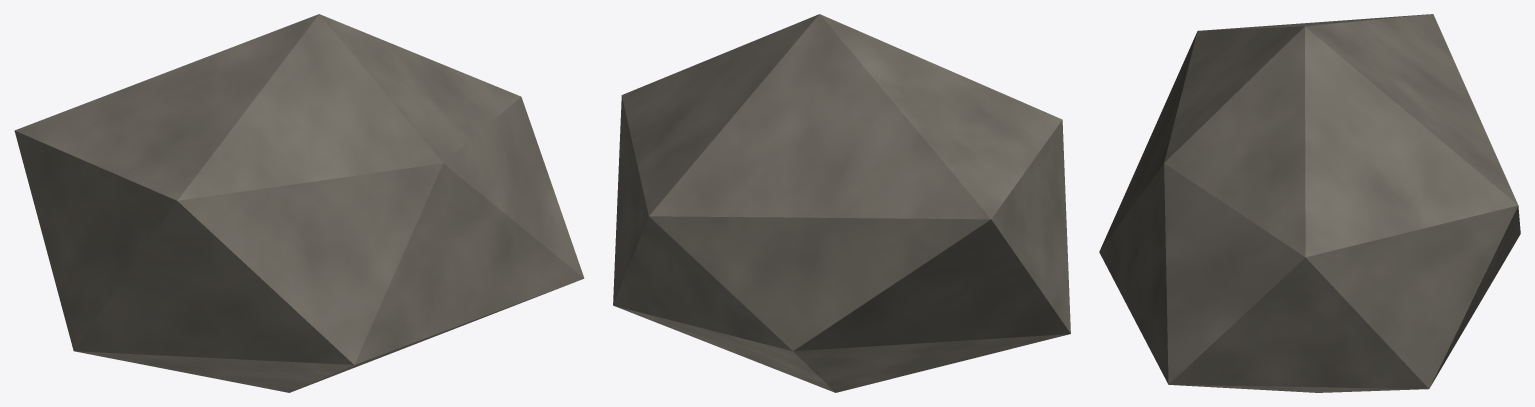
File: rock_small.fbx
3 renders of one model, left to right at view 1: azimuth 30°, elevation 25°; view 2: azimuth 150°, elevation 25°; view 3: azimuth 270°, elevation 25°, orthographic. The views are drawn at different scales.
Visible parts, largest first — view 1: Stone; view 2: Stone; view 3: Stone.
Part boxes in pixels (x1,y1,x2,y2): Stone: (14, 14, 584, 392); Stone: (613, 14, 1070, 392); Stone: (1099, 14, 1520, 392).
Bounding box in the file's own units: 2.04 × 1.62 × 1.64.
